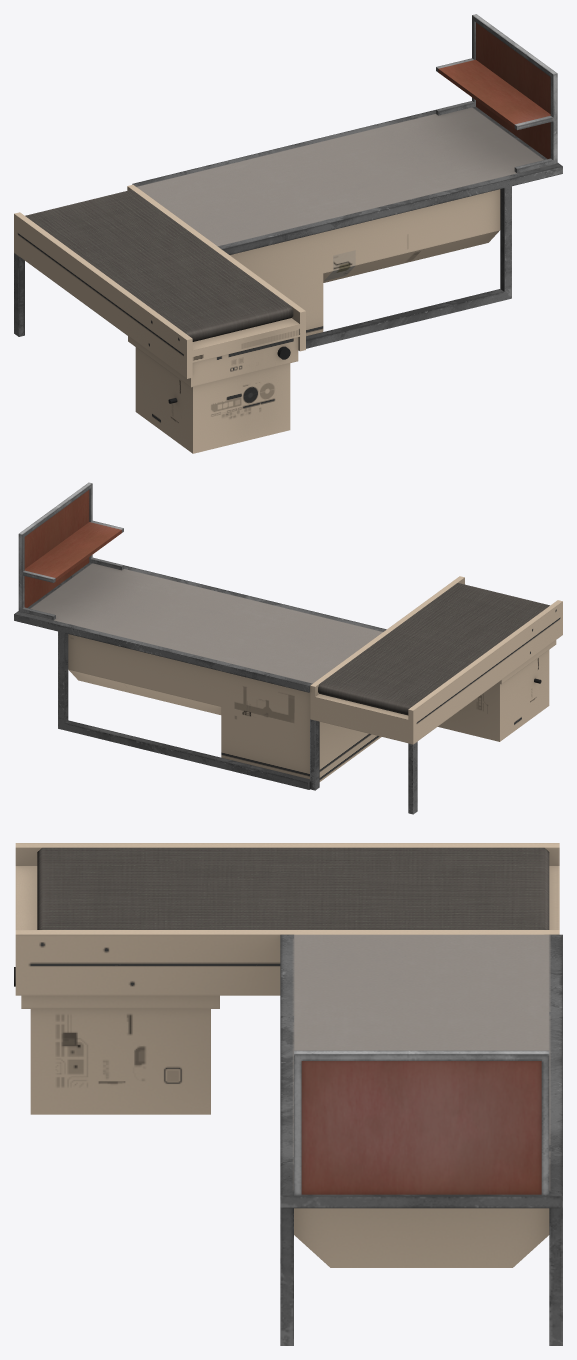
The model's file is mesh_workshop_table.fbx.
3 renders of one model, top to bottom at view 1: azimuth 30°, elevation 25°; view 2: azimuth 150°, elevation 25°; view 3: azimuth 270°, elevation 25°, orthographic. The views are drawn at different scales.
Visible parts, largest first — view 1: workshop_table; view 2: workshop_table; view 3: workshop_table.
Boxes of the visible parts, box(x1,y1,x2,y2) form: workshop_table: box(14, 14, 562, 453); workshop_table: box(14, 482, 562, 814); workshop_table: box(14, 843, 562, 1345).
Size of the model in its own units: 324 by 141 by 213.
